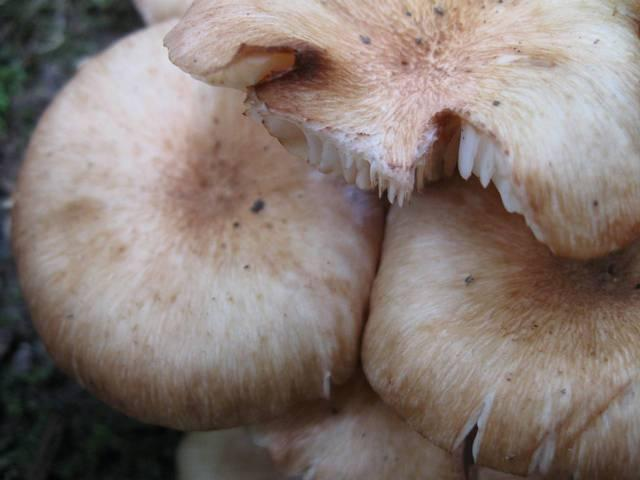edible_mushroom: (8, 14, 385, 432), (162, 0, 639, 261), (360, 171, 639, 479)
